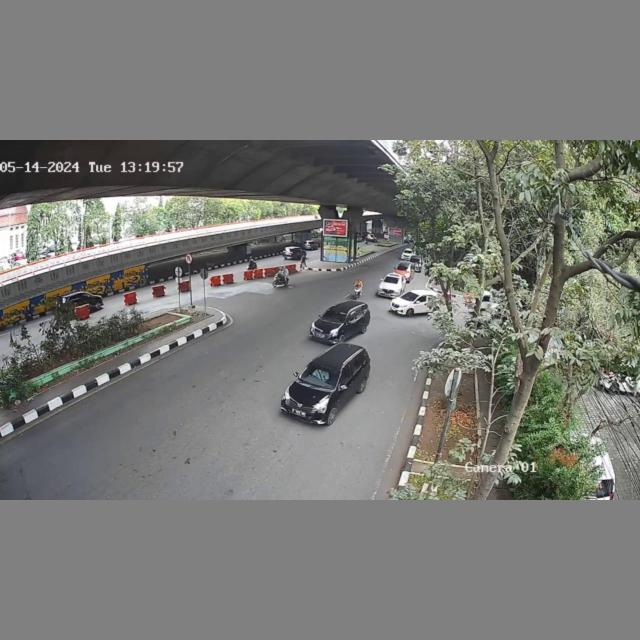windshield: (298, 362, 342, 391), (321, 307, 348, 326)
